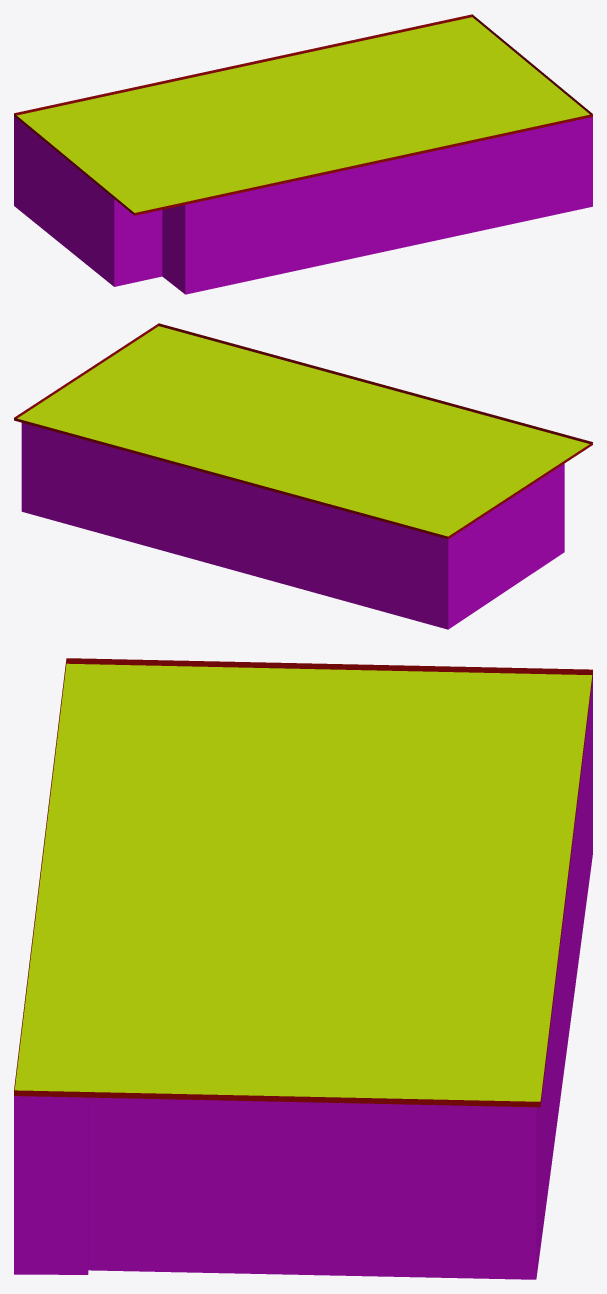
3 views of the same model, one above another, from view 1: azimuth 30°, elevation 25°; view 2: azimuth 150°, elevation 25°; view 3: azimuth 270°, elevation 25° (orthographic). The views are drawn at different scales.
Visible parts, largest first — view 1: sc_76; view 2: sc_76; view 3: sc_76.
Boxes of the visible parts, x1,y1,x2,y2 form: sc_76: [14, 14, 592, 294]; sc_76: [14, 323, 592, 629]; sc_76: [14, 658, 592, 1279].
Bounding box in the file's own units: 59.51 × 11.53 × 32.83.
